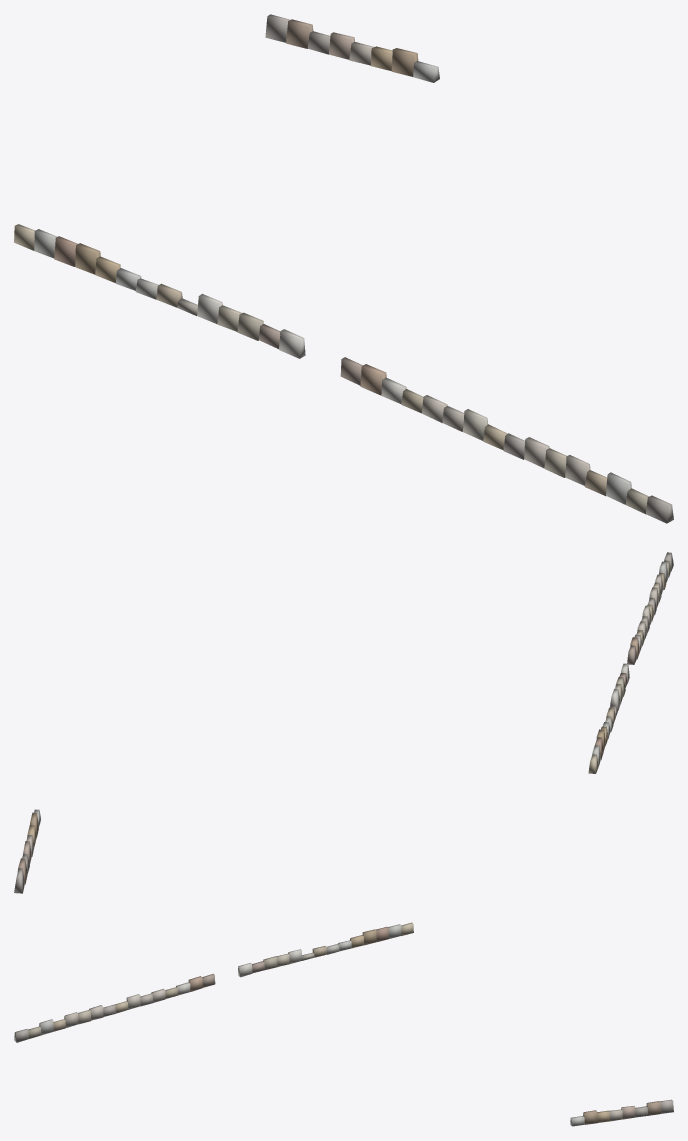
Rendered from farm_-37_-48_far.glb.
3 views of the same model, one above another, from view 1: azimuth 30°, elevation 25°; view 2: azimuth 150°, elevation 25°; view 3: azimuth 270°, elevation 25° (orthographic). The views are drawn at different scales.
Parts seen in each view (by area): view 1: geometry_0; view 2: geometry_0; view 3: geometry_0.
Part boxes in pixels (left/top/right/bottom): geometry_0: left=14, top=14, right=673, bottom=523; geometry_0: left=14, top=552, right=673, bottom=893; geometry_0: left=14, top=922, right=673, bottom=1126.
Size of the model in its own units: 40.52 by 7.63 by 75.92.
